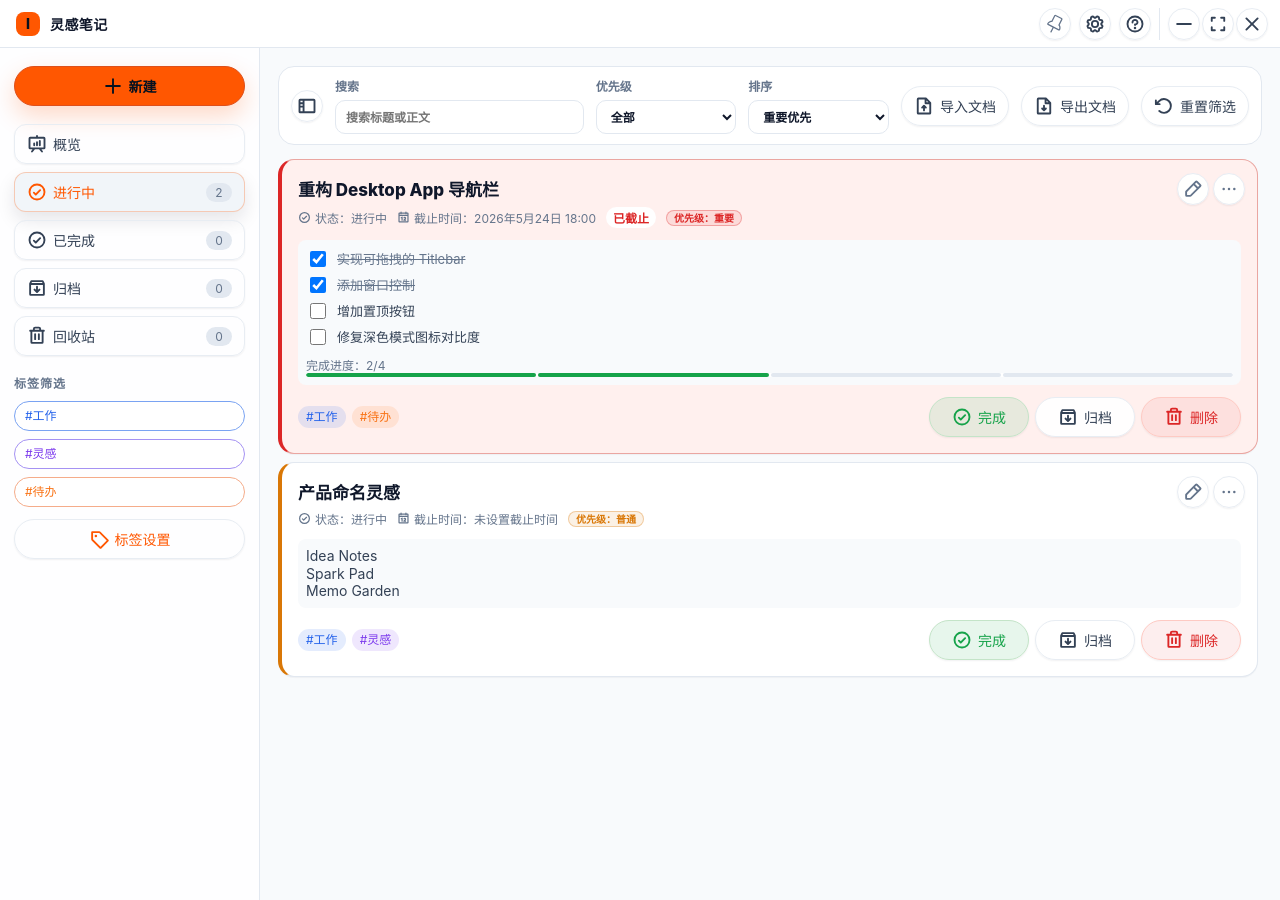
Test case: App editor failure › 保存进行中禁用编辑器取消按钮直到保存结束
Step 1. Click the button "新建" → (130, 86), box [14,66,245,106]
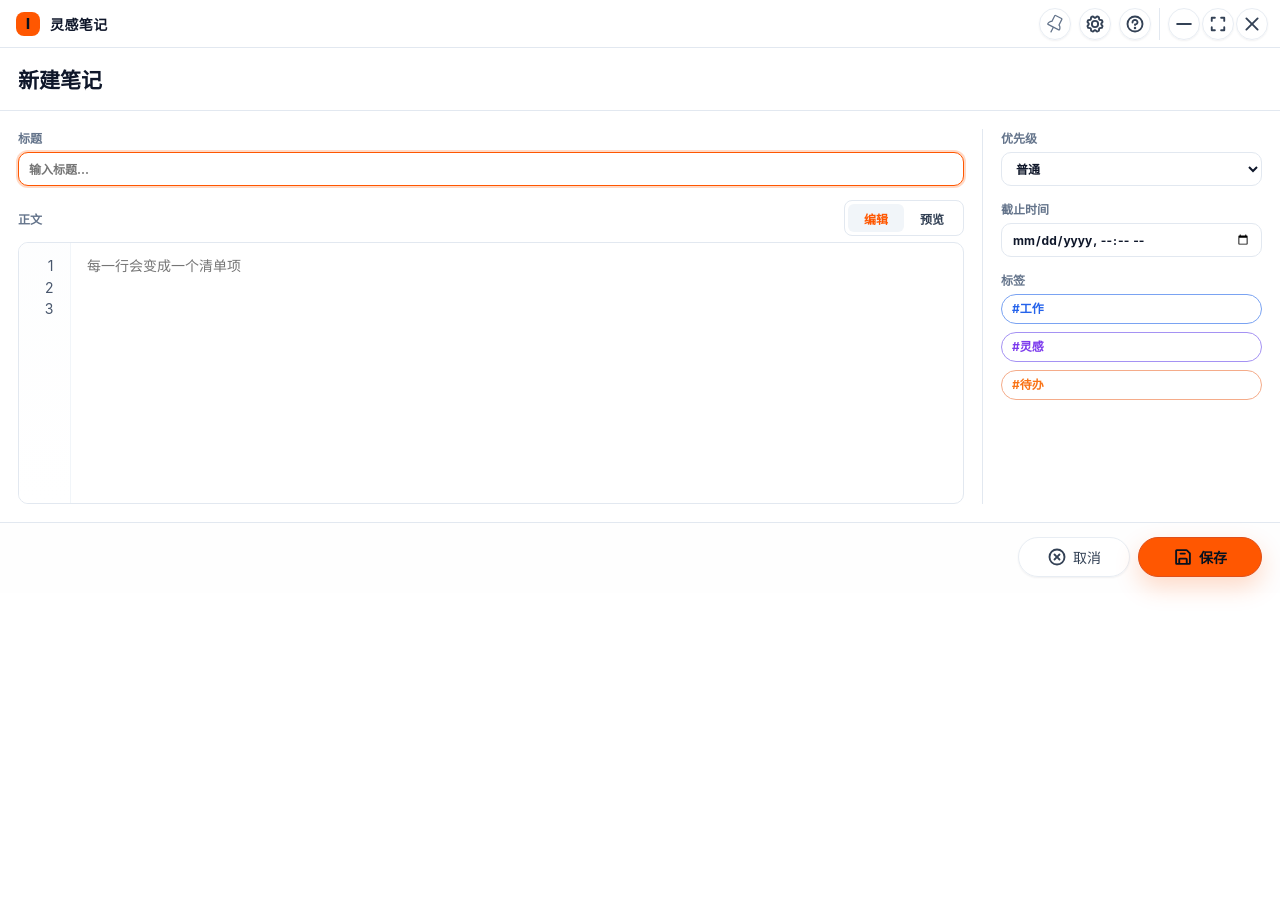
Step 2. Type "保存中标题" into the field labelled "标题" → (491, 169), box [18,152,964,186]
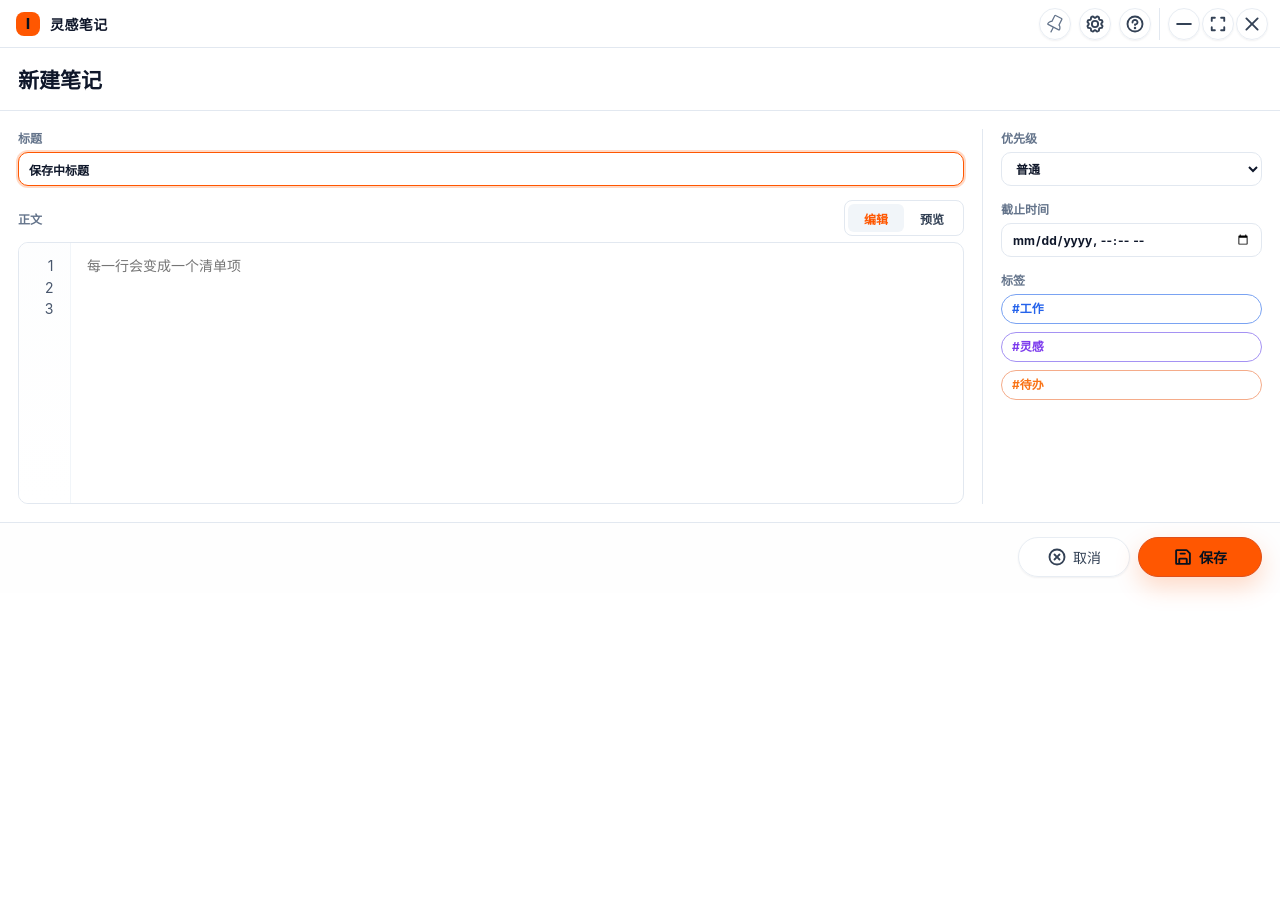
Step 3. Click the button "保存" → (1200, 557), box [1138,537,1262,577]
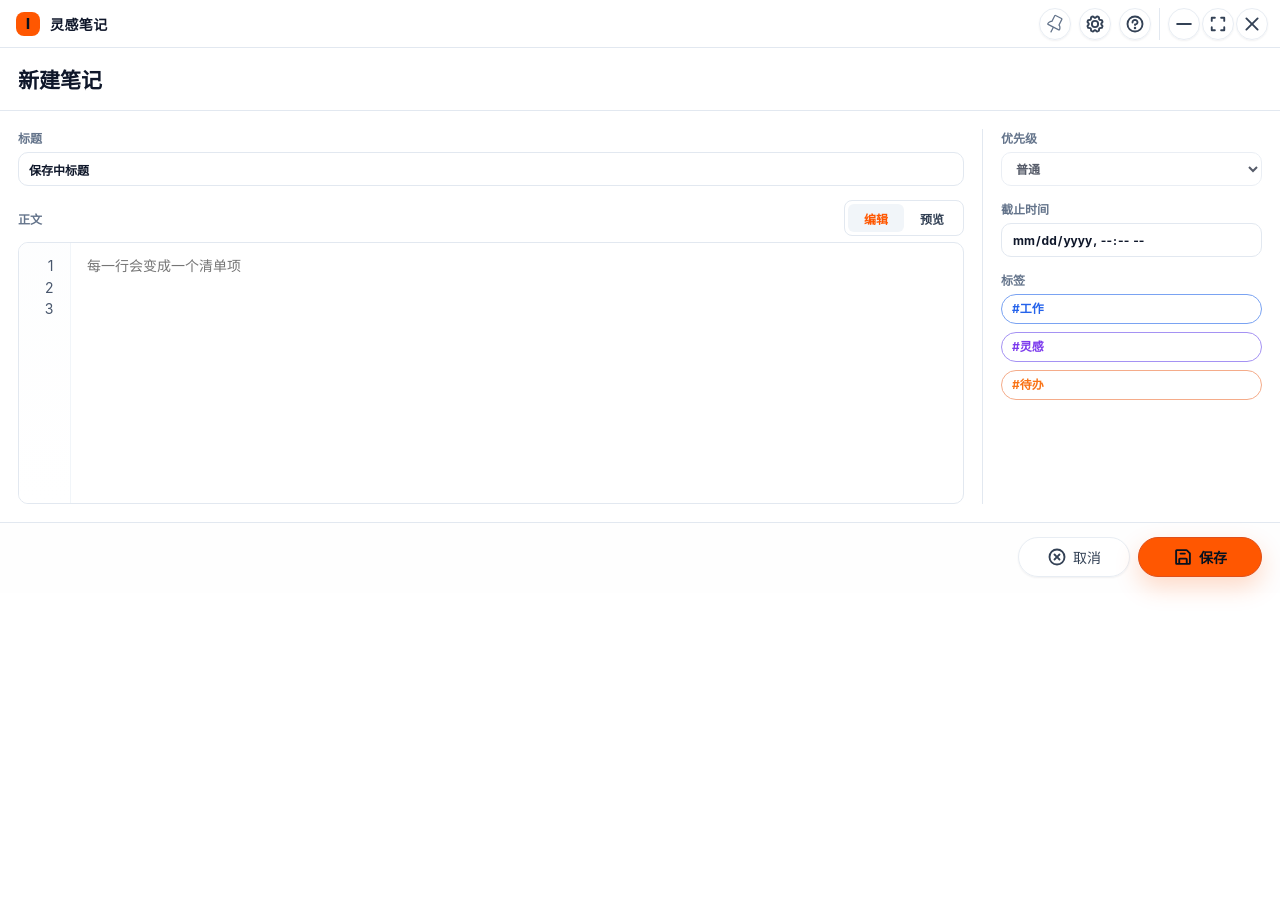
Expected: the field labelled "标题" is disabled, [18,152,964,186]
Expected: the dropdown labelled "优先级" is disabled, [1001,152,1262,186]
Step 4. Click the button "取消" → (1074, 557), box [1018,537,1130,577]
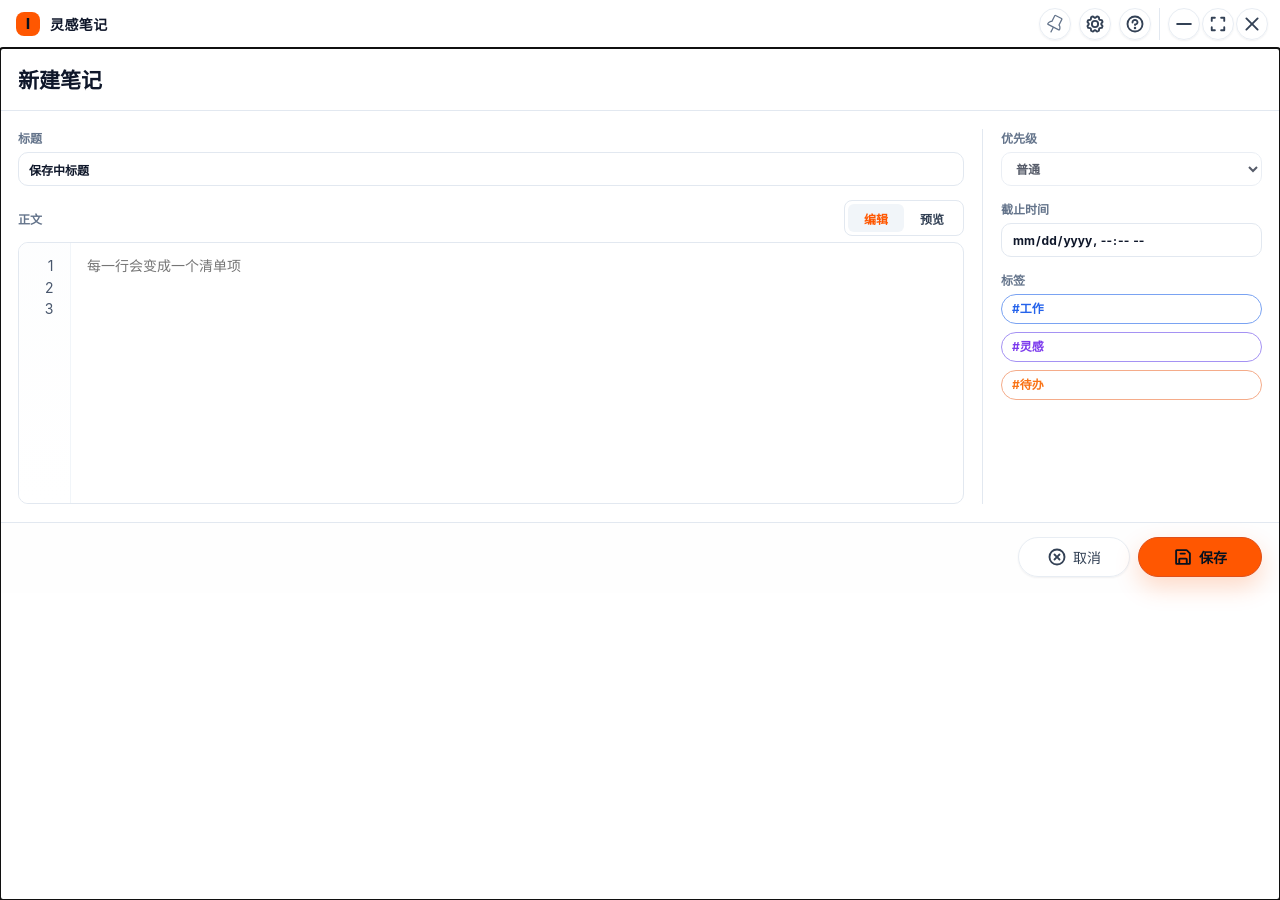
Step 5. Click the button named "设置" → (1095, 24), box [1079,8,1111,40]
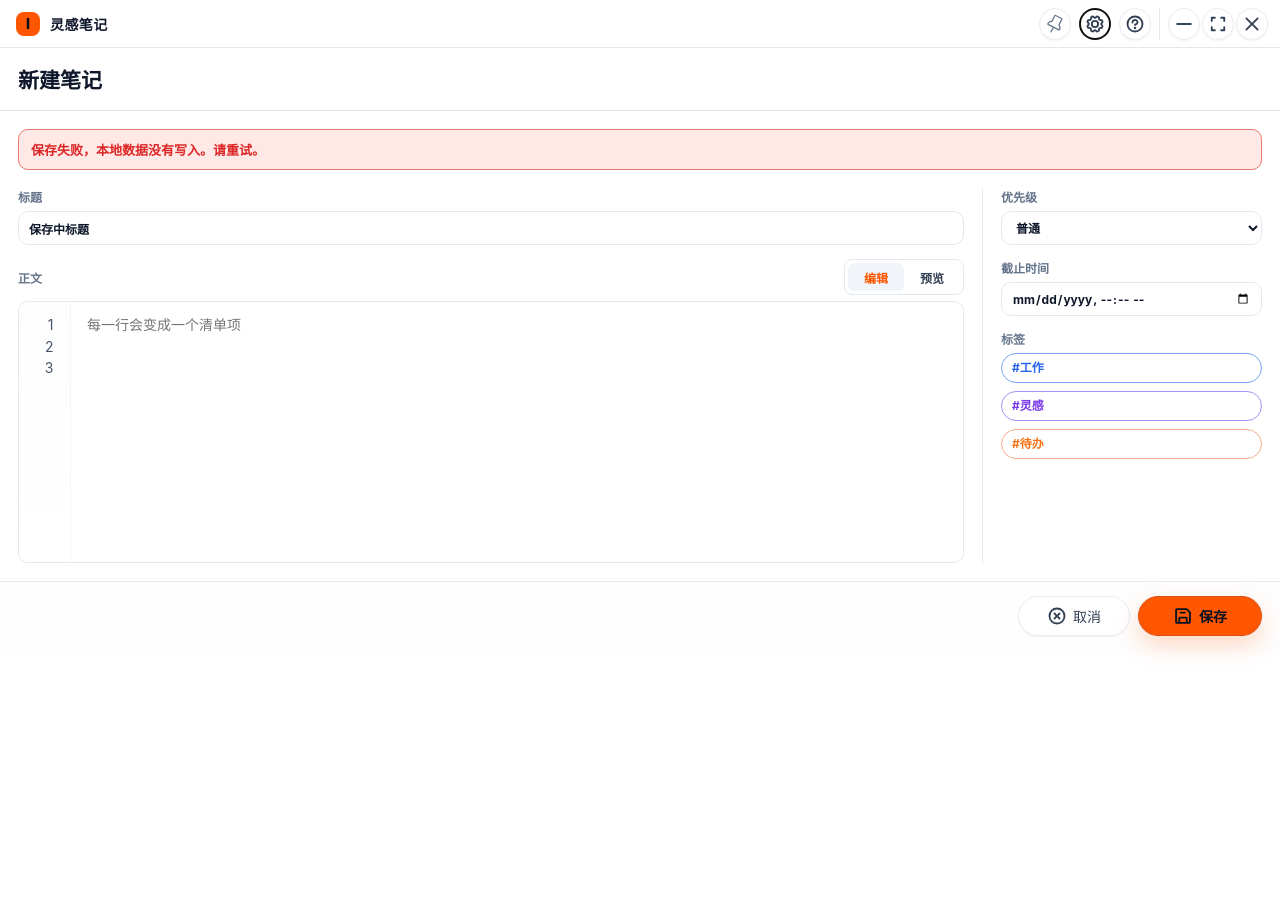
Expected: the heading "新建笔记" is shown, [18,64,102,94]
Expected: the message reads "保存失败，本地数据没有写入。请重试。", [31,142,265,158]
